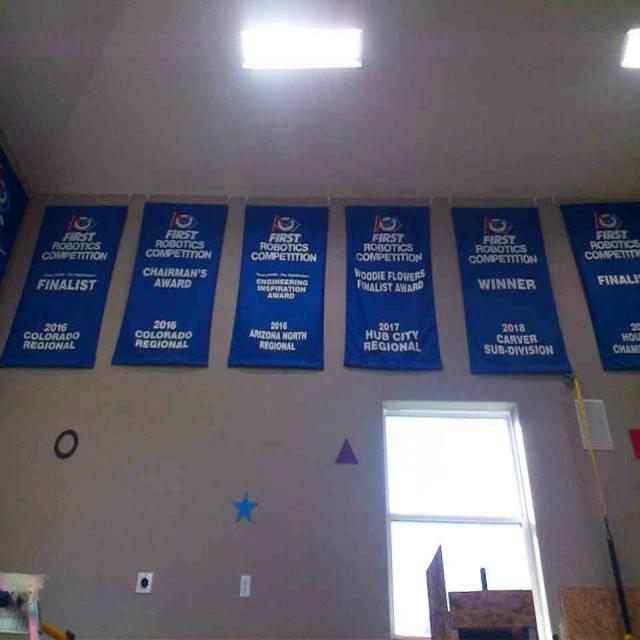ring_black: (54, 428, 78, 459)
star_blue: (232, 489, 260, 523)
triangle_purple: (333, 437, 359, 465)
